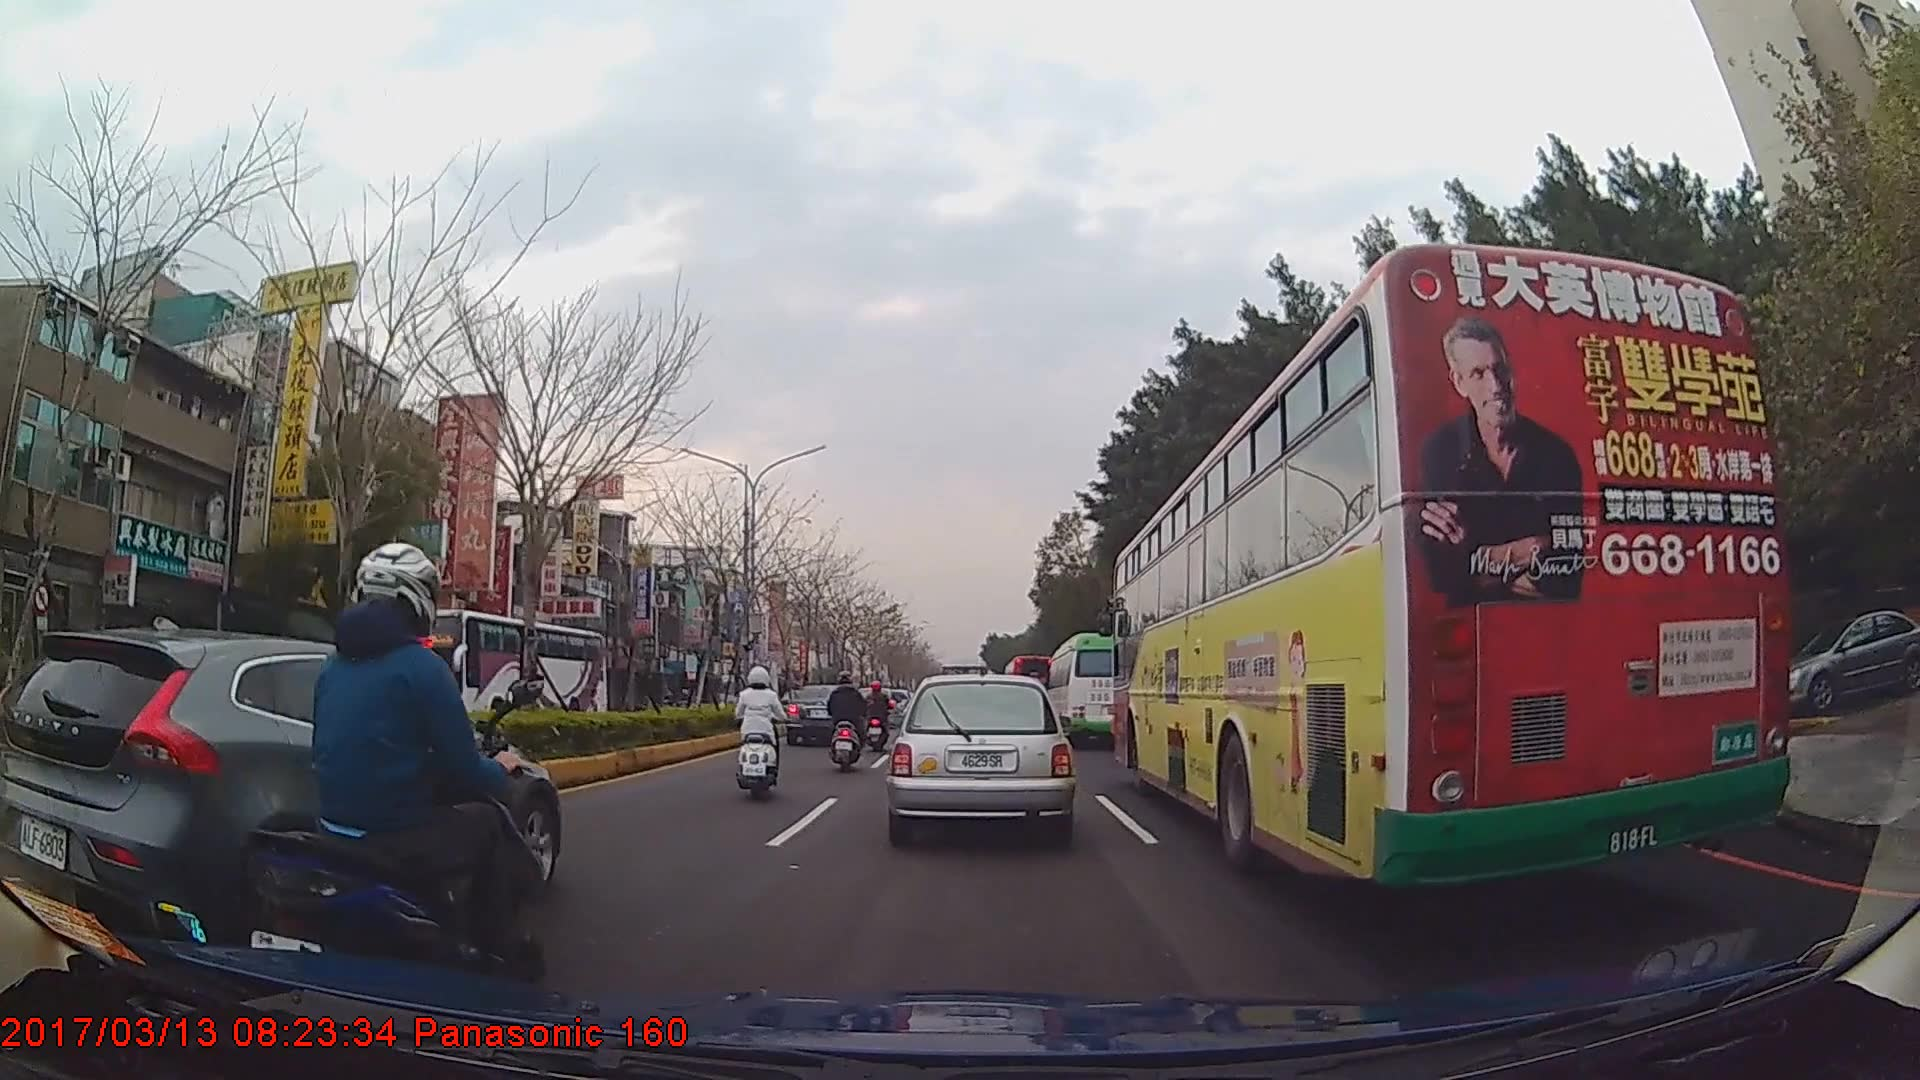rider: (235, 537, 541, 1021), (729, 663, 788, 799), (825, 673, 872, 763), (864, 680, 891, 748)
vehicle: (1107, 239, 1793, 893), (4, 626, 572, 967), (890, 670, 1072, 841), (399, 607, 608, 755), (1765, 606, 1920, 713), (1044, 629, 1144, 747), (787, 682, 869, 748), (1000, 651, 1058, 726)
